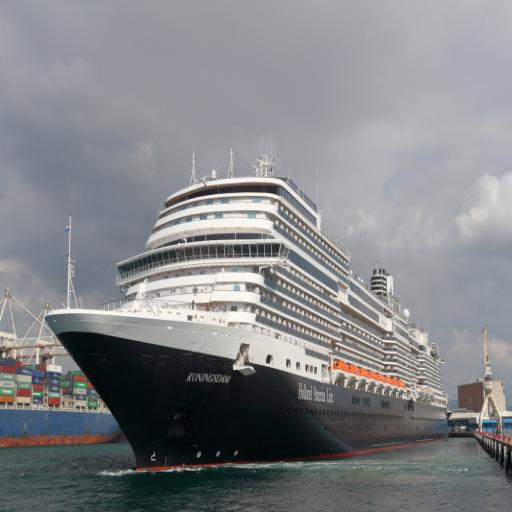cruises: (42, 143, 453, 479)
